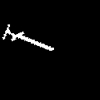double_crochet: (3, 25, 53, 50)
